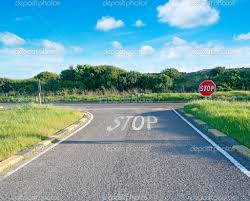stop_sign: (198, 79, 217, 97)
